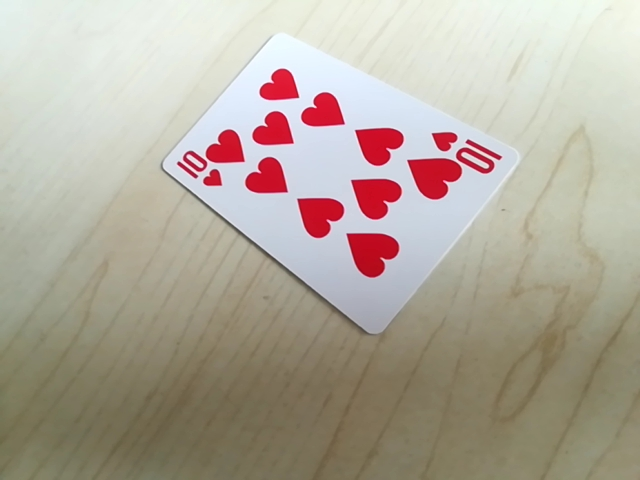hx 10: (429, 132, 505, 167), (169, 154, 230, 192)
